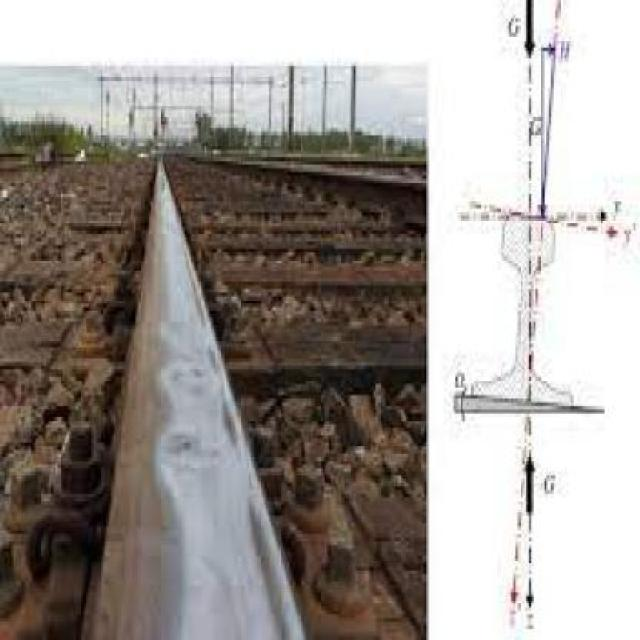non-defective: (0, 146, 426, 639)
